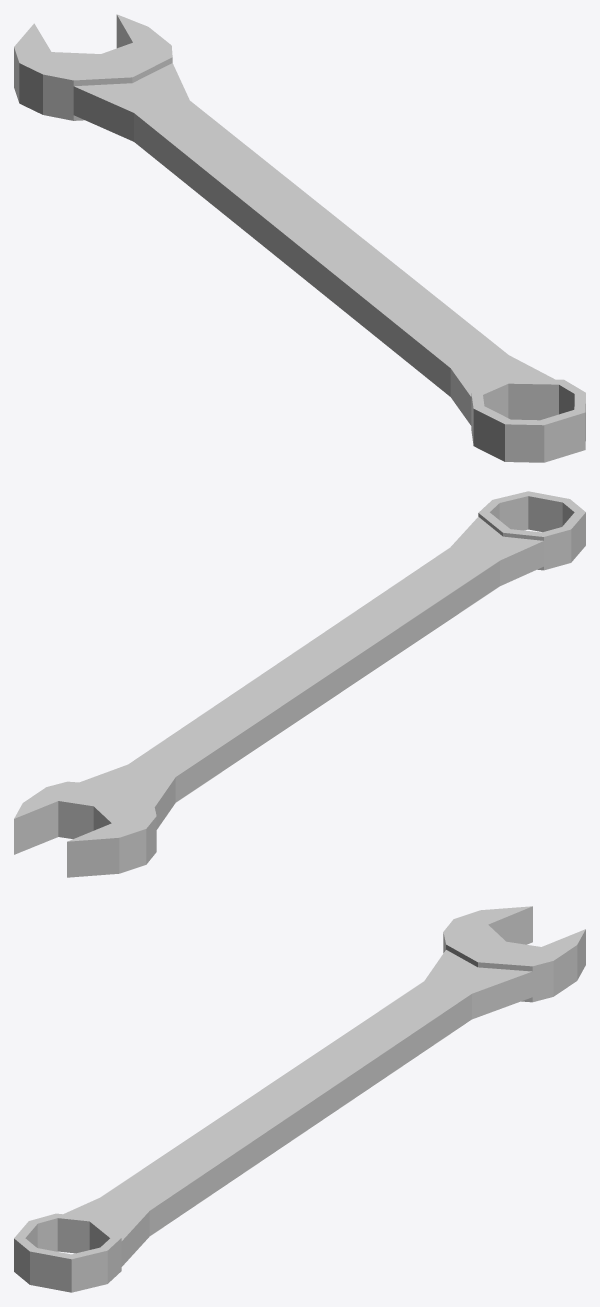
The model's file is Me_Tool_1.fbx.
3 renders of one model, top to bottom at view 1: azimuth 30°, elevation 25°; view 2: azimuth 150°, elevation 25°; view 3: azimuth 330°, elevation 25°, orthographic. The views are drawn at different scales.
Visible parts, largest first — view 1: Me_Tool_1; view 2: Me_Tool_1; view 3: Me_Tool_1.
Boxes of the visible parts, <box> form: Me_Tool_1: <box>14,14,585,462</box>; Me_Tool_1: <box>14,491,585,877</box>; Me_Tool_1: <box>14,906,585,1292</box>.
Bounding box in the file's own units: 50.12 × 320 × 13.3.
